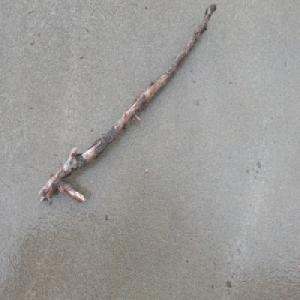Wood: (36, 2, 218, 203)
